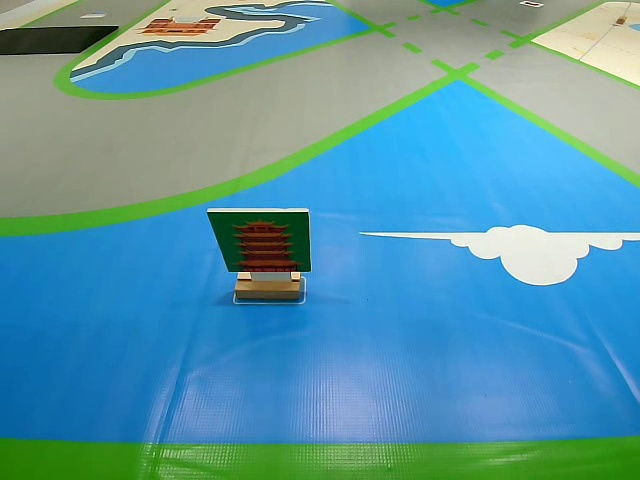huangHeGe: (205, 210, 315, 276)
